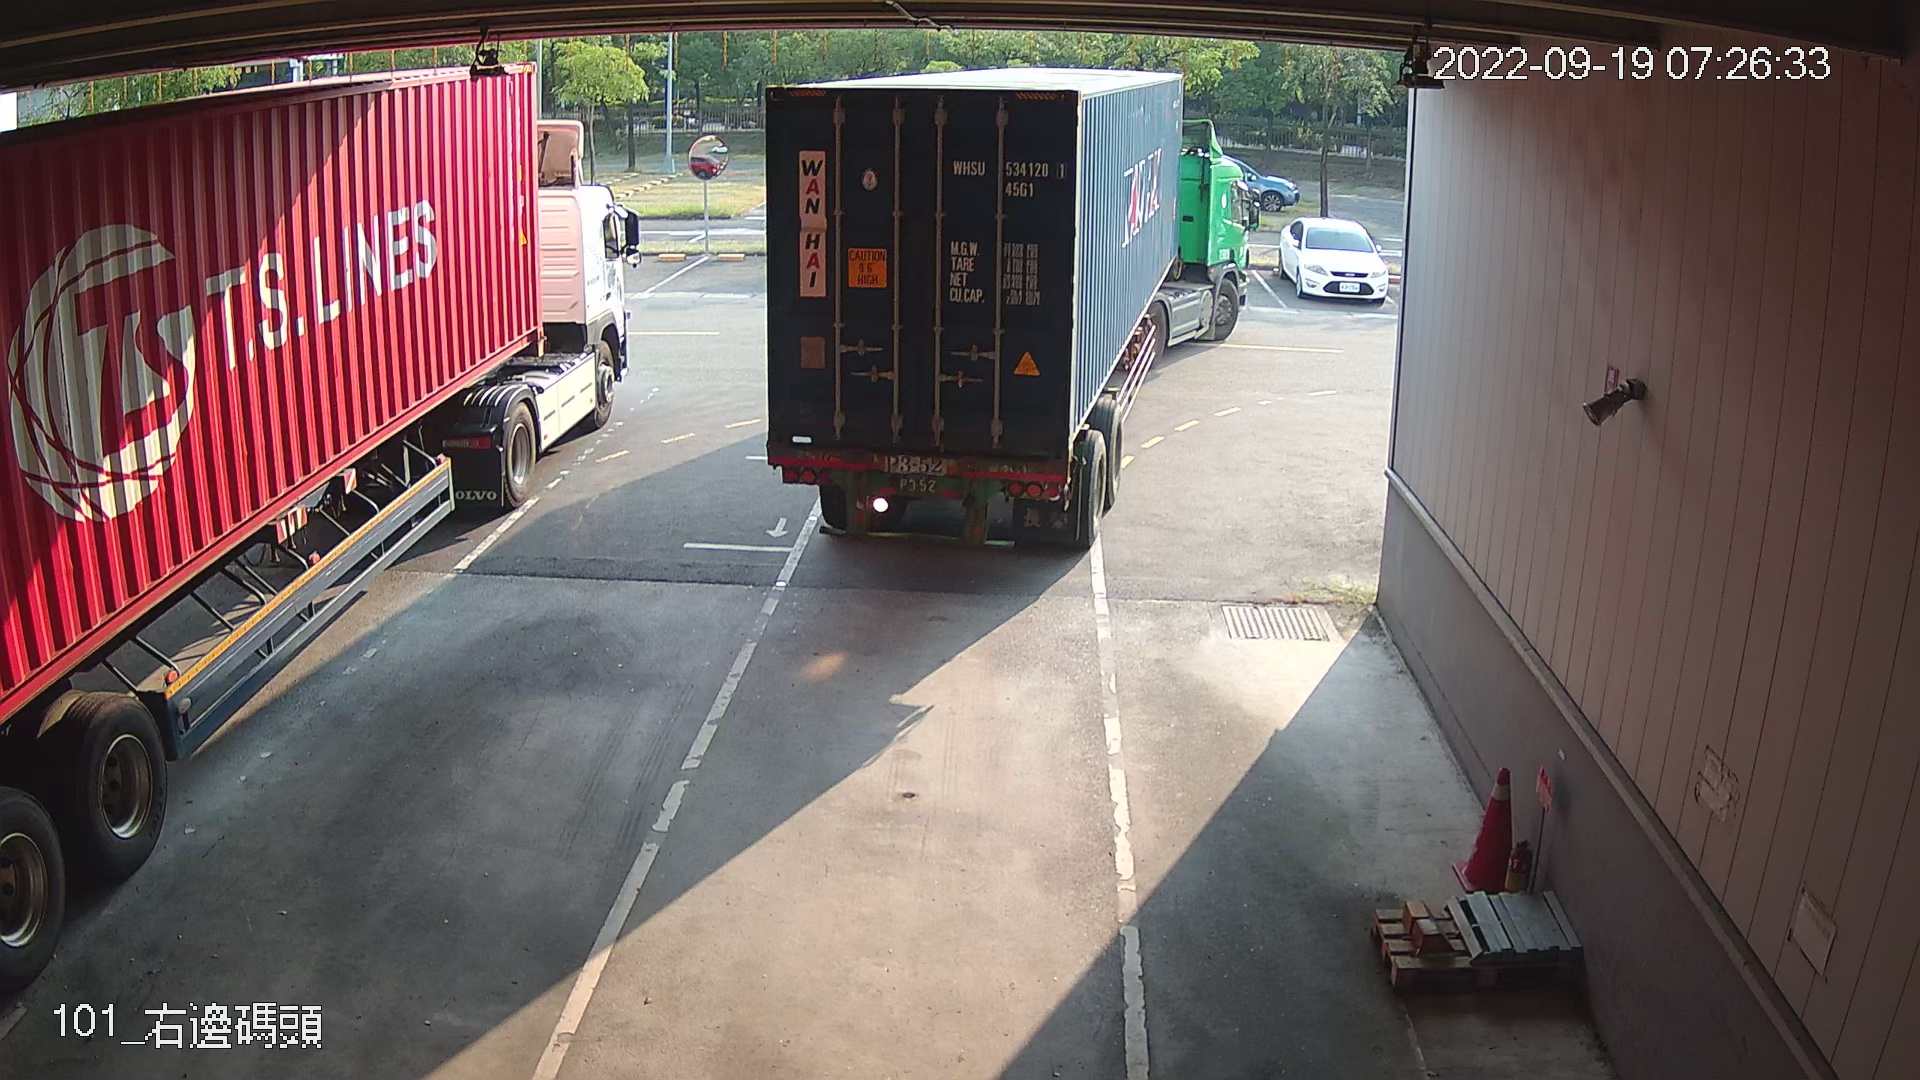container: (947, 152, 1069, 206)
